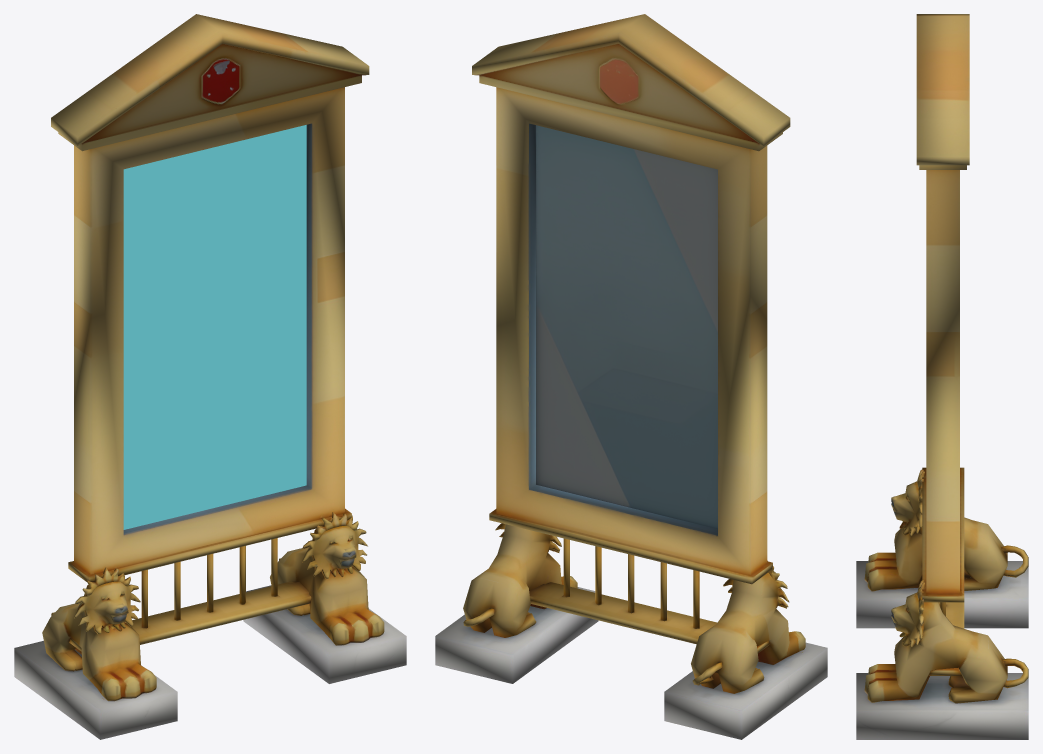
File: mirror_bare.glb
The picture shows the model from 3 angles, left to right: view 1: azimuth 30°, elevation 25°; view 2: azimuth 150°, elevation 25°; view 3: azimuth 270°, elevation 25°; orthographic projection.
Visible parts, largest first — view 1: tripo_node_8eb972c0-7a27-4b96-ac71-5cb5af0142ce, glass_f; view 2: tripo_node_8eb972c0-7a27-4b96-ac71-5cb5af0142ce; view 3: tripo_node_8eb972c0-7a27-4b96-ac71-5cb5af0142ce.
Boxes of the visible parts, box(x1,y1,x2,y2) form: tripo_node_8eb972c0-7a27-4b96-ac71-5cb5af0142ce: box(14, 14, 406, 739); glass_f: box(123, 125, 306, 529); tripo_node_8eb972c0-7a27-4b96-ac71-5cb5af0142ce: box(435, 14, 827, 739); tripo_node_8eb972c0-7a27-4b96-ac71-5cb5af0142ce: box(856, 14, 1028, 739).
Size of the model in its own units: 0.4941 by 0.998 by 0.2402.
2 materials, 1 textured.
